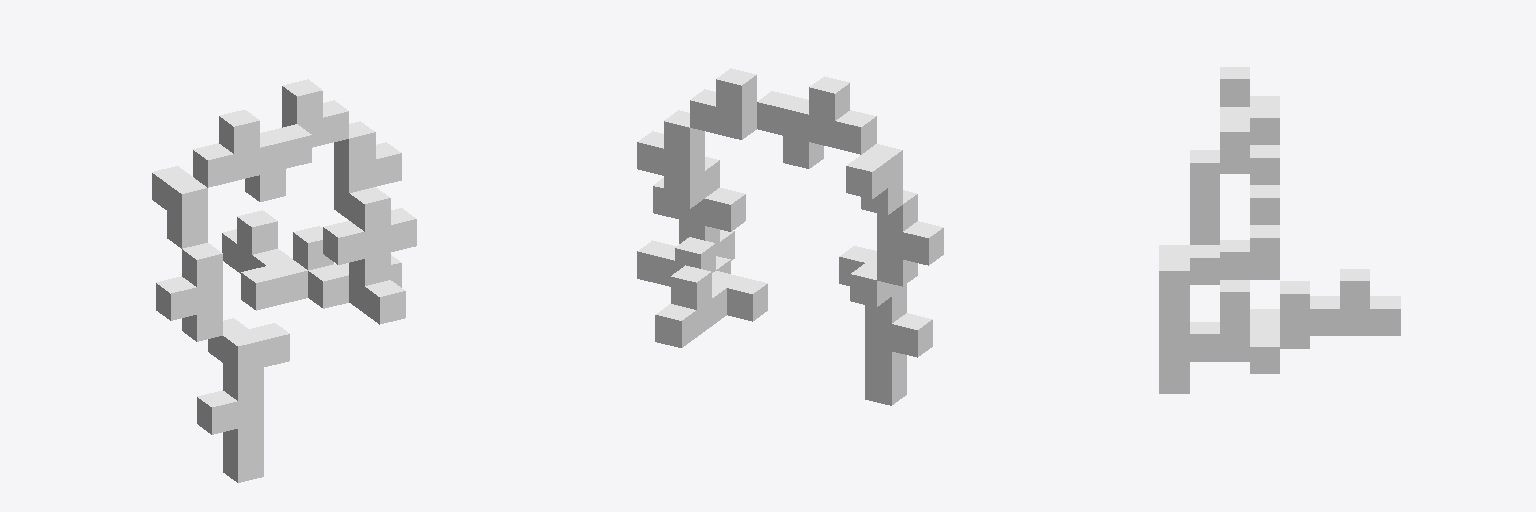
File: thorn3.obj
3 views of the same model, side by side, from view 1: azimuth 30°, elevation 25°; view 2: azimuth 150°, elevation 25°; view 3: azimuth 270°, elevation 25° (orthographic).
Parts seen in each view (by area): view 1: thorn3; view 2: thorn3; view 3: thorn3.
Boxes of the visible parts, box(x1,y1,x2,y2) form: thorn3: box(152, 79, 416, 482); thorn3: box(637, 68, 943, 405); thorn3: box(1159, 67, 1400, 393).
Size of the model in its own units: 10 by 12 by 8.